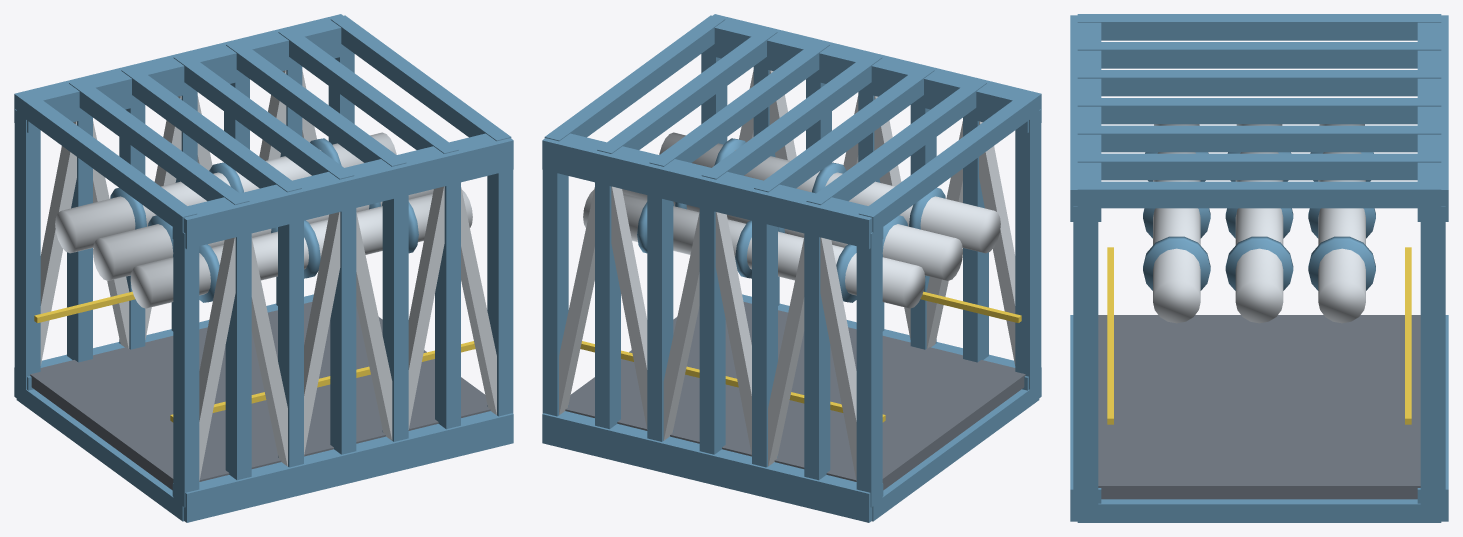
The model's file is transfer_gantry.glb.
3 views of the same model, side by side, from view 1: azimuth 30°, elevation 25°; view 2: azimuth 150°, elevation 25°; view 3: azimuth 270°, elevation 25° (orthographic). The views are drawn at different scales.
Parts seen in each view (by area): view 1: BridgeDeck, ChordTop_-0.42, ChordBot_-0.42, ChordTop_0.42, Post_-0.42_0, Post_0.42_0, Post_-0.42_6, Post_-0.42_4, Post_-0.42_3, Post_-0.42_1, BridgePipe_0, Post_-0.42_5 (+32 smaller); view 2: BridgeDeck, ChordTop_0.42, ChordBot_0.42, ChordTop_-0.42, Post_0.42_0, Post_-0.42_0, Post_0.42_6, Post_0.42_4, Post_0.42_3, Post_0.42_1, BridgePipe_2, Post_0.42_5 (+32 smaller); view 3: BridgeDeck, CrossTop_6, CrossTop_4, CrossTop_5, CrossTop_0, CrossTop_1, CrossTop_2, CrossTop_3, CrossBot_6, Post_-0.42_6, Post_0.42_6, BridgePipe_1 (+14 smaller).
Part boxes in pixels (box(x1,y1,x2,y2)): BridgeDeck: box(30, 301, 490, 490); ChordTop_-0.42: box(172, 133, 513, 248); ChordBot_-0.42: box(172, 411, 513, 522); ChordTop_0.42: box(14, 14, 353, 132); Post_-0.42_0: box(173, 226, 199, 507); Post_0.42_0: box(14, 109, 40, 390); Post_-0.42_6: box(487, 169, 513, 416); Post_-0.42_4: box(382, 195, 408, 441); Post_-0.42_3: box(330, 208, 356, 454); Post_-0.42_1: box(225, 233, 251, 480); BridgePipe_0: box(130, 189, 472, 308); Post_-0.42_5: box(435, 182, 460, 429); BridgeDeck: box(565, 301, 1025, 490); ChordTop_0.42: box(542, 133, 883, 248); ChordBot_0.42: box(542, 411, 883, 522); ChordTop_-0.42: box(702, 14, 1041, 132); Post_0.42_0: box(856, 226, 882, 507); Post_-0.42_0: box(1015, 109, 1041, 390); Post_0.42_6: box(542, 169, 568, 416); Post_0.42_4: box(647, 195, 673, 441); Post_0.42_3: box(699, 208, 725, 454); Post_0.42_1: box(804, 233, 830, 480); BridgePipe_2: box(583, 189, 925, 308); Post_0.42_5: box(595, 182, 620, 429); BridgeDeck: box(1098, 315, 1420, 499); CrossTop_6: box(1077, 181, 1441, 208); CrossTop_4: box(1077, 125, 1441, 152); CrossTop_5: box(1077, 153, 1441, 180); CrossTop_0: box(1077, 14, 1441, 40); CrossTop_1: box(1077, 42, 1441, 68); CrossTop_2: box(1077, 70, 1441, 96); CrossTop_3: box(1077, 98, 1441, 124); CrossBot_6: box(1077, 499, 1441, 522); Post_-0.42_6: box(1073, 206, 1098, 505); Post_0.42_6: box(1420, 206, 1445, 505); BridgePipe_1: box(1235, 124, 1283, 323).
Bounding box in the file's own units: 1 × 0.89 × 0.915.
